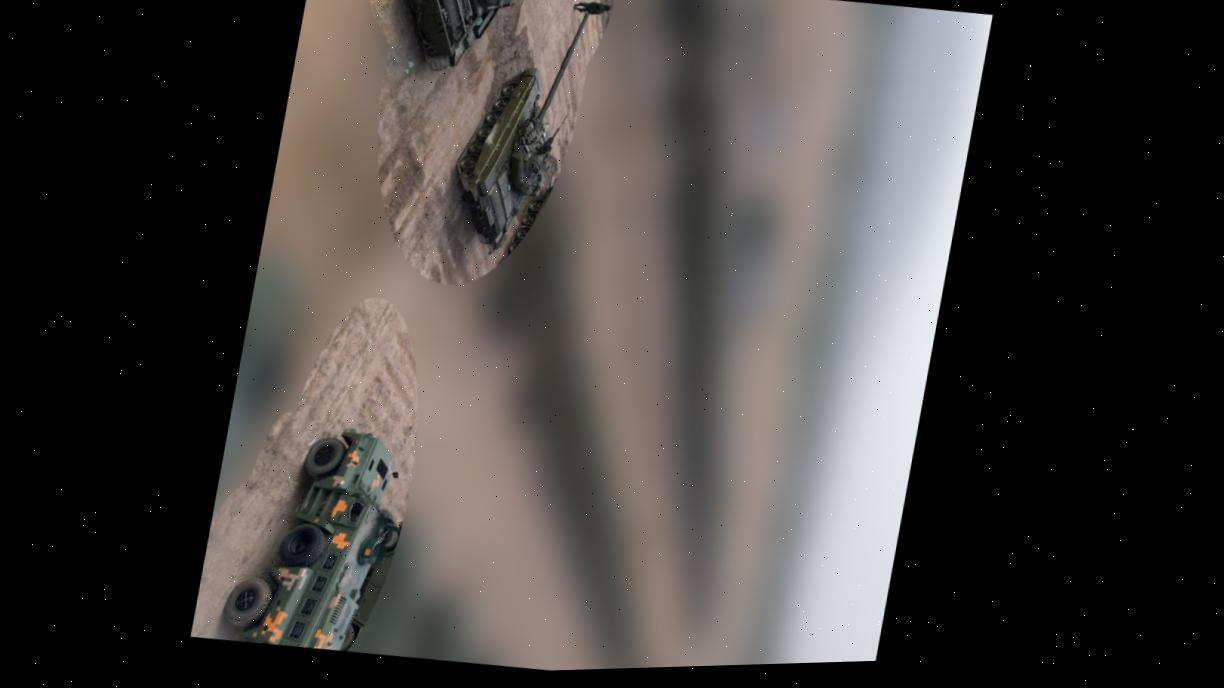armored_car: (213, 416, 403, 658)
tank: (440, 9, 589, 256), (370, 0, 537, 78)
